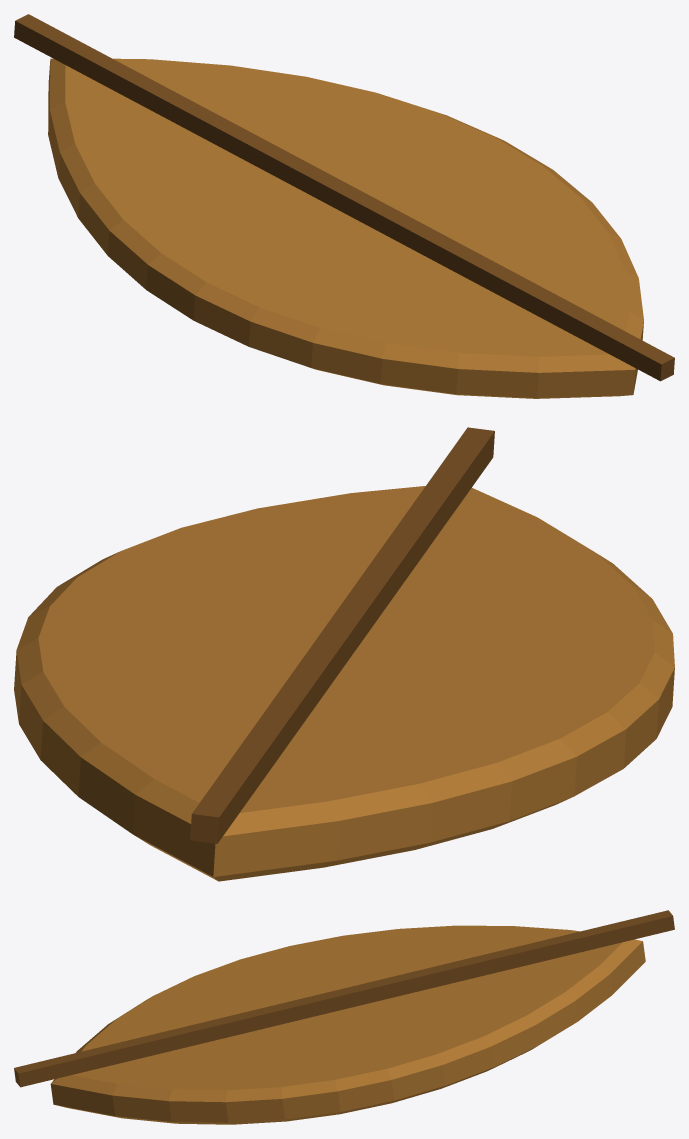
The model's file is leaf.glb.
3 renders of one model, top to bottom at view 1: azimuth 30°, elevation 25°; view 2: azimuth 150°, elevation 25°; view 3: azimuth 270°, elevation 25°, orthographic. The views are drawn at different scales.
Visible parts, largest first — view 1: leaf_mesh; view 2: leaf_mesh; view 3: leaf_mesh.
Part boxes in pixels (x1,y1,x2,y2): leaf_mesh: [14, 14, 674, 398]; leaf_mesh: [14, 427, 674, 881]; leaf_mesh: [14, 910, 674, 1124].
Size of the model in its own units: 0.4595 by 0.159 by 0.8274.
